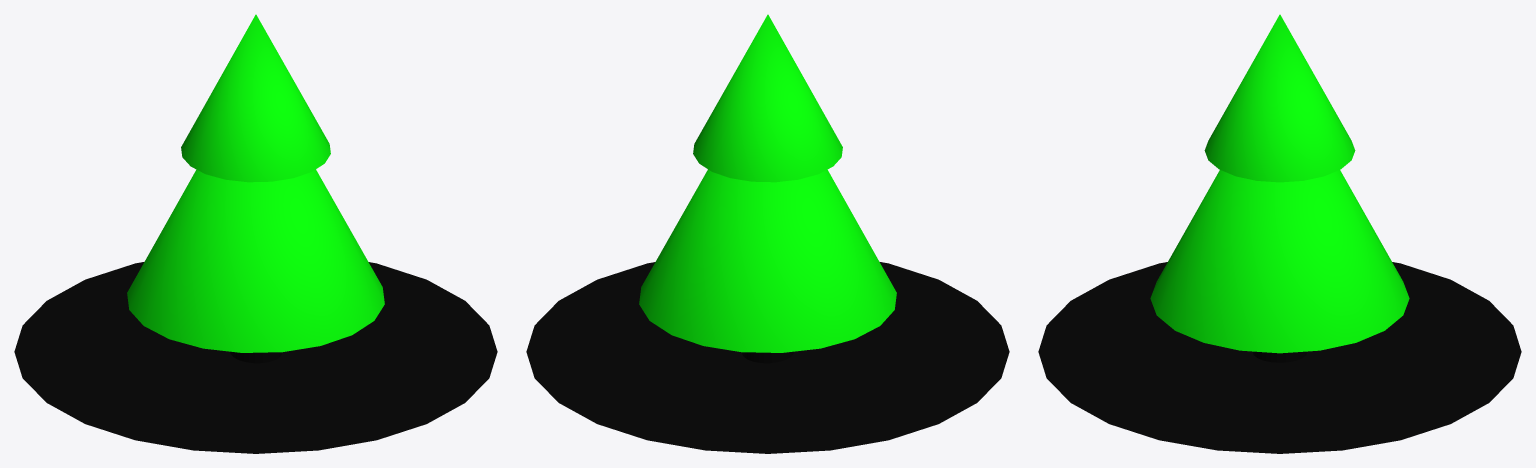
Rendered from Christmas Tree (1).gltf.
3 views of the same model, side by side, from view 1: azimuth 30°, elevation 25°; view 2: azimuth 150°, elevation 25°; view 3: azimuth 270°, elevation 25° (orthographic).
Parts seen in each view (by area): view 1: pDisc1, pCone1, pCone2; view 2: pDisc1, pCone1, pCone2; view 3: pDisc1, pCone1, pCone2.
Boxes of the visible parts, x1=… form: pDisc1: x1=14, y1=262, x2=497, y2=453; pCone1: x1=127, y1=169, x2=384, y2=352; pCone2: x1=181, y1=14, x2=330, y2=182; pDisc1: x1=526, y1=262, x2=1009, y2=453; pCone1: x1=639, y1=169, x2=896, y2=352; pCone2: x1=693, y1=14, x2=842, y2=182; pDisc1: x1=1038, y1=262, x2=1521, y2=453; pCone1: x1=1150, y1=170, x2=1409, y2=353; pCone2: x1=1204, y1=14, x2=1355, y2=182.
Bounding box in the file's own units: 2 × 1.54 × 2.
